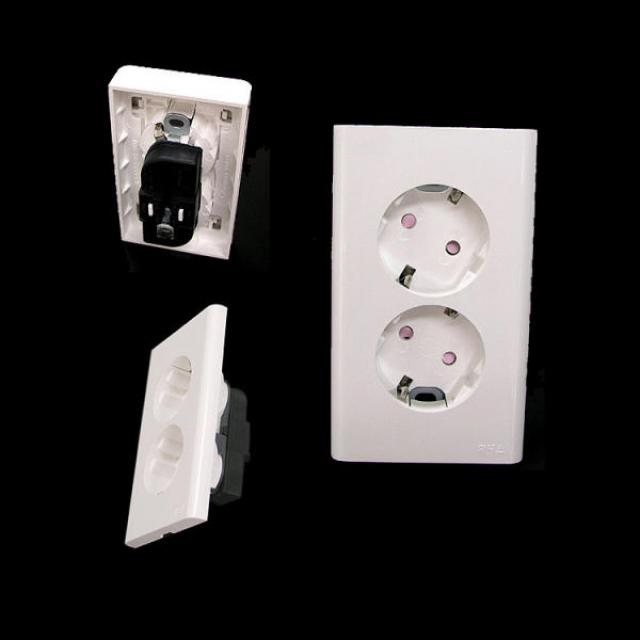typeb: (294, 74, 522, 502)
